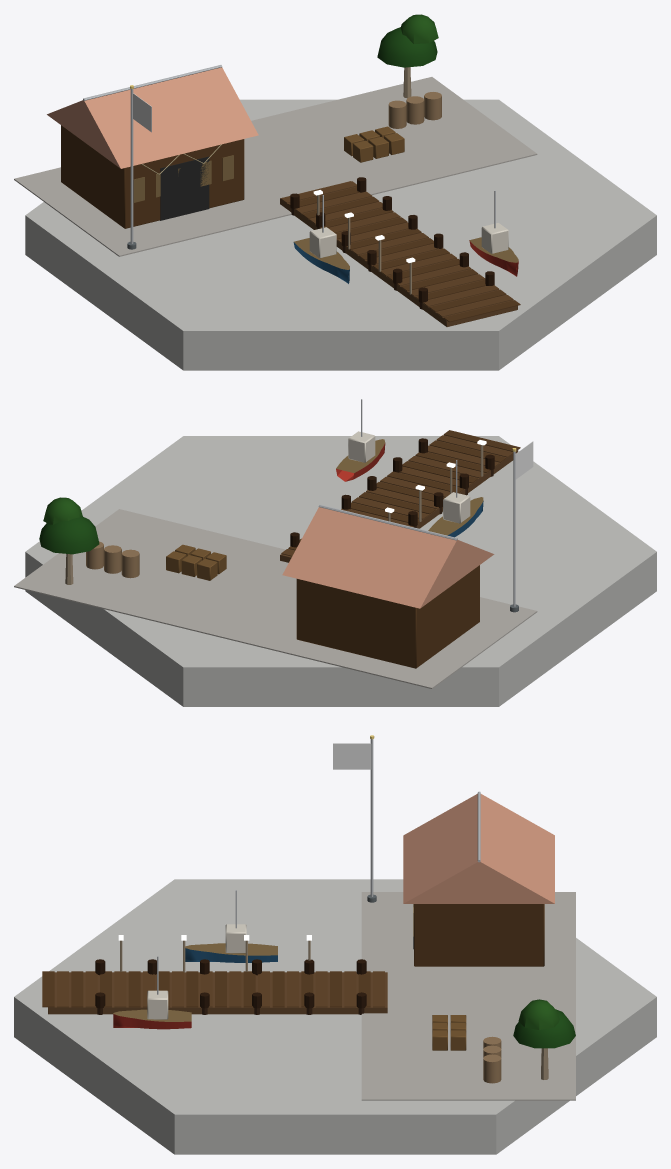
The model's file is fishingWharf.glb.
3 views of the same model, one above another, from view 1: azimuth 30°, elevation 25°; view 2: azimuth 150°, elevation 25°; view 3: azimuth 270°, elevation 25° (orthographic).
Visible parts, largest first — view 1: wall_concrete, gravel, wood, roof_tile, paint, dark, leaf, metal; view 2: wall_concrete, gravel, wood, roof_tile, leaf, paint, metal, banner; view 3: wall_concrete, gravel, wood, roof_tile, paint, leaf, banner, metal.
Part boxes in pixels (<box>): wall_concrete: <box>25,99,656,370</box>; gravel: <box>14,77,537,256</box>; wood: <box>61,67,520,326</box>; roof_tile: <box>47,67,258,168</box>; paint: <box>141,144,518,283</box>; dark: <box>160,156,209,220</box>; leaf: <box>377,14,438,67</box>; metal: <box>83,65,495,243</box>; wall_concrete: <box>25,436,656,706</box>; gravel: <box>14,509,537,688</box>; wood: <box>65,430,520,668</box>; roof_tile: <box>282,507,494,608</box>; leaf: <box>39,497,99,554</box>; paint: <box>336,431,483,537</box>; metal: <box>318,399,515,606</box>; banner: <box>515,441,533,479</box>; wall_concrete: <box>14,879,656,1154</box>; gravel: <box>361,892,575,1100</box>; wood: <box>42,904,548,1083</box>; roof_tile: <box>403,794,554,903</box>; paint: <box>113,924,277,1029</box>; leaf: <box>513,999,575,1048</box>; banner: <box>333,743,371,769</box>; metal: <box>157,739,480,994</box>.
Bounding box in the file's own units: 21.3 × 8.7 × 24.6.
